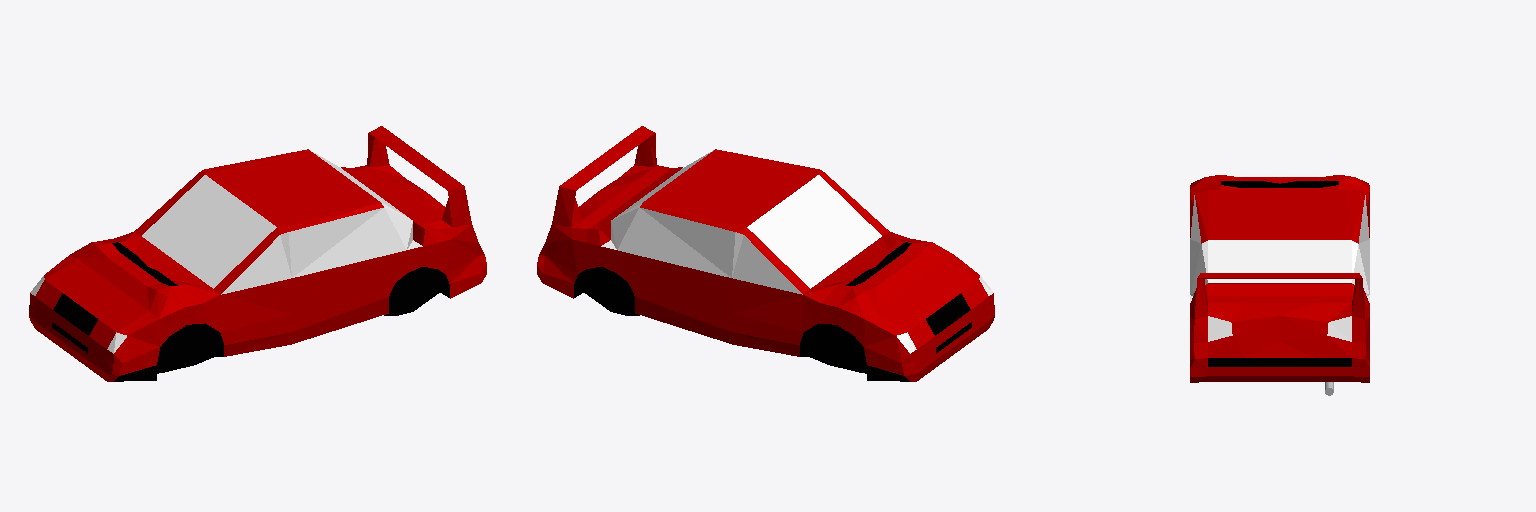
Rendered from car.obj.
The picture shows the model from 3 angles: view 1: azimuth 30°, elevation 25°; view 2: azimuth 150°, elevation 25°; view 3: azimuth 270°, elevation 25°; orthographic projection.
Parts seen in each view (by area): view 1: Cube; view 2: Cube; view 3: Cube.
Boxes of the visible parts, x1,y1,x2,y2 form: Cube: [29, 126, 486, 381]; Cube: [537, 126, 994, 381]; Cube: [1190, 175, 1369, 382].
Bounding box in the file's own units: 10.86 × 3.29 × 4.52.